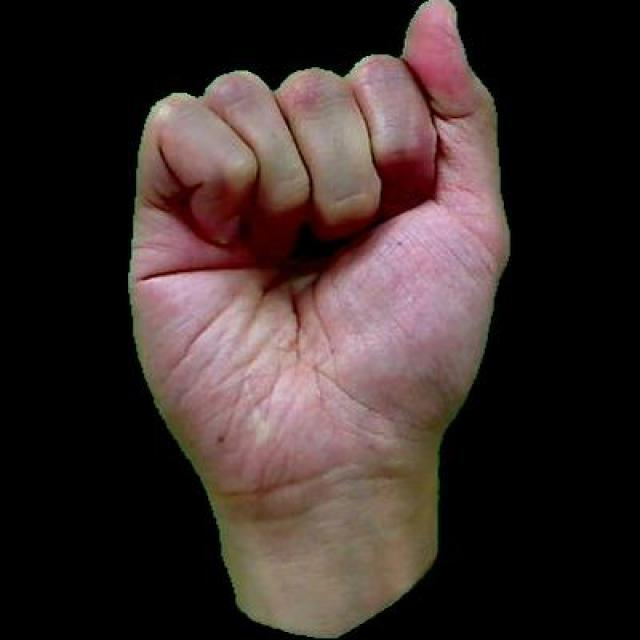a: (122, 0, 512, 637)
